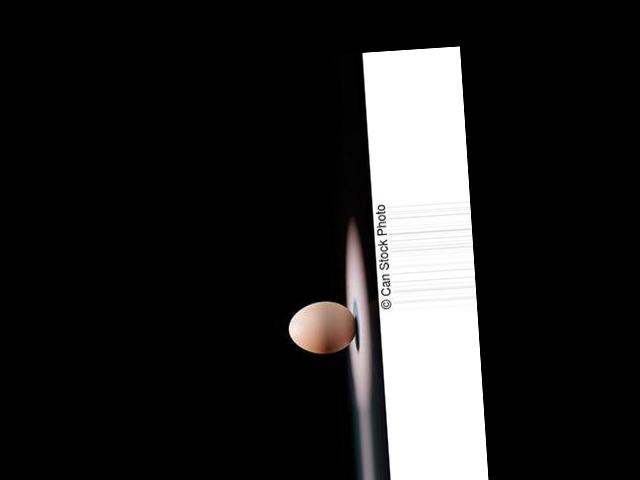egg: (287, 299, 359, 357)
